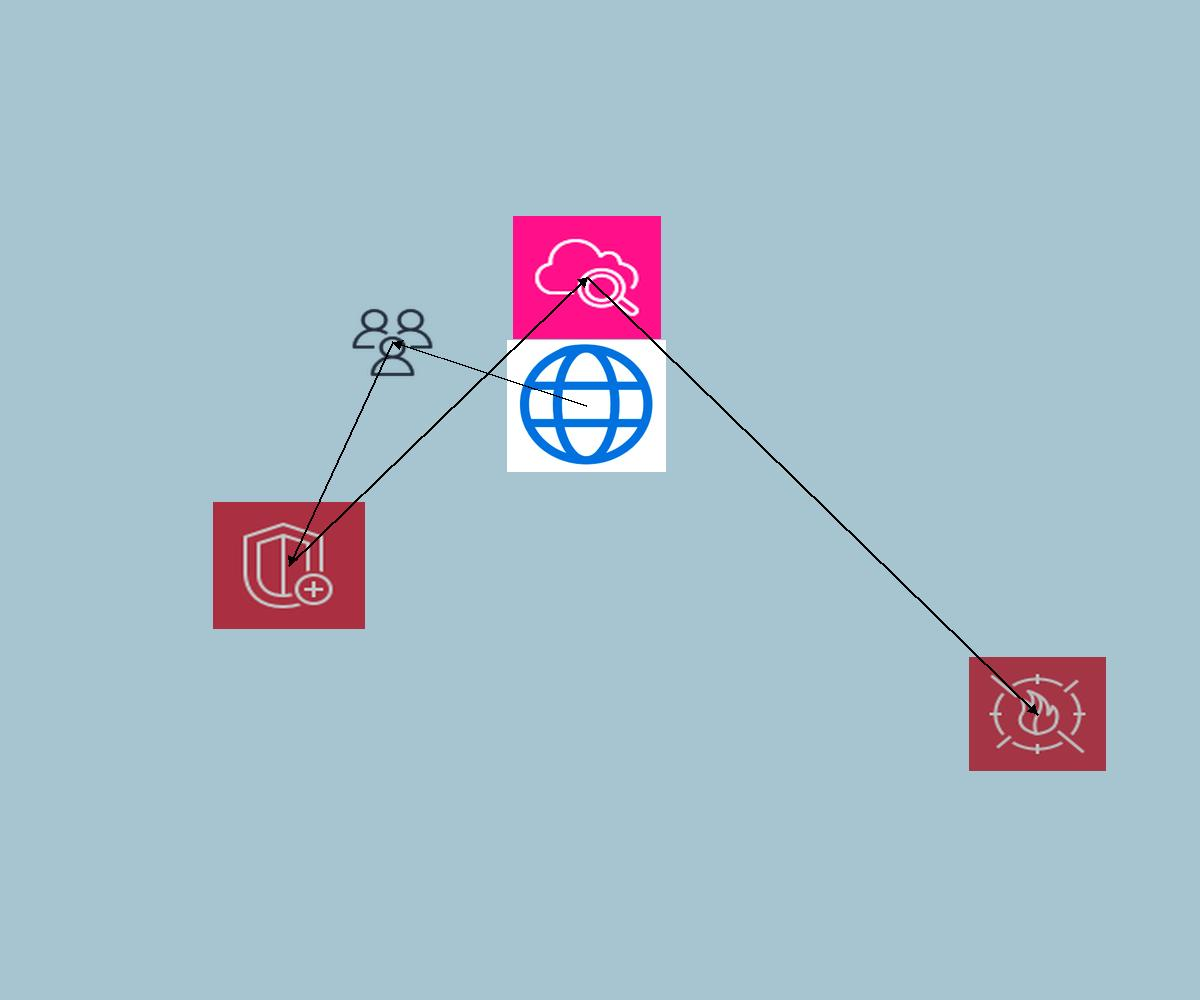AWS-CloudWatch: (513, 216, 661, 339)
AWS-Res_Users: (349, 306, 436, 379)
AWS-Shield: (213, 502, 365, 629)
AWS-WAF: (969, 657, 1106, 771)
Azure_http: (507, 340, 666, 472)
